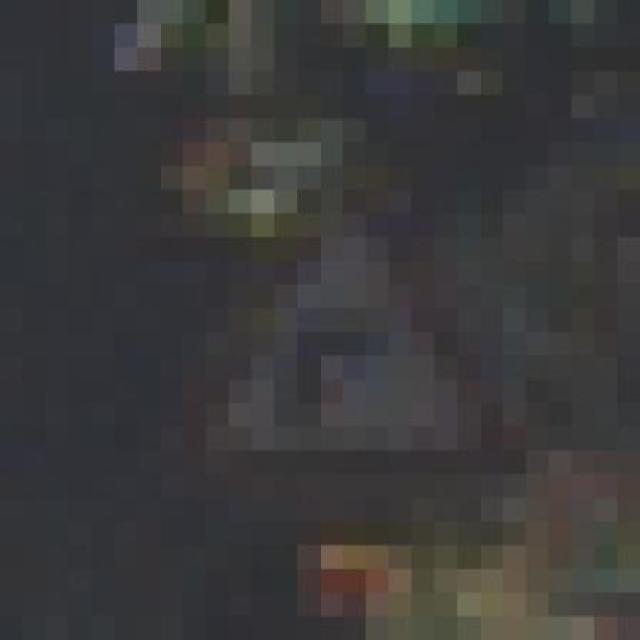Dangerous Rright Curve Ahead: (95, 175, 552, 507)
